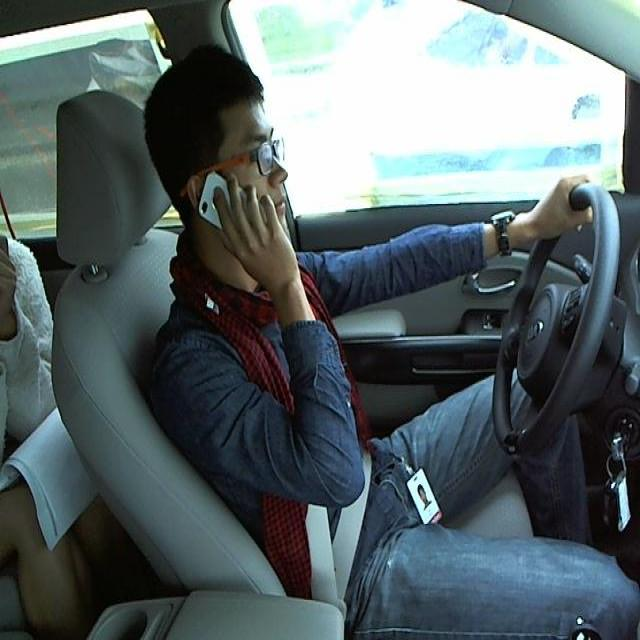using_phone: (123, 42, 329, 278)
